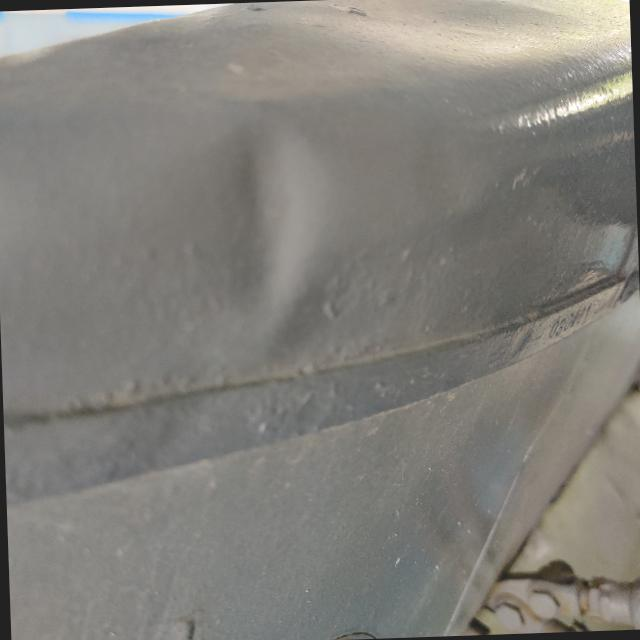dent: (165, 104, 350, 340)
